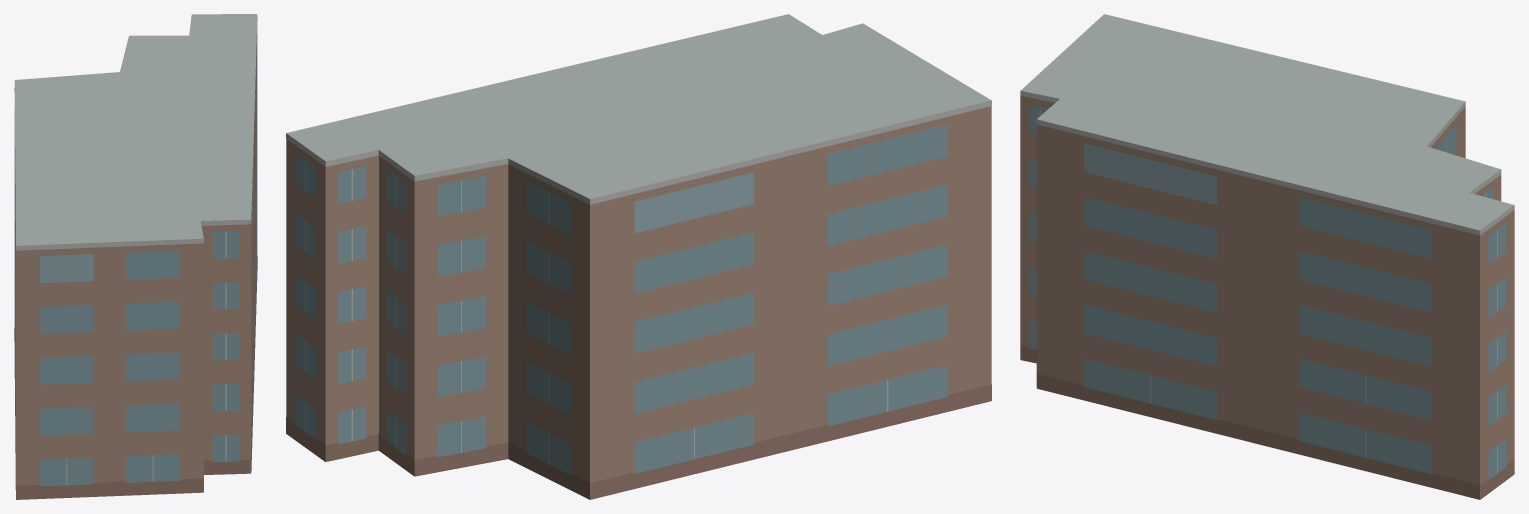
File: survey-upis-33002012.glb
3 views of the same model, side by side, from view 1: azimuth 30°, elevation 25°; view 2: azimuth 150°, elevation 25°; view 3: azimuth 270°, elevation 25° (orthographic). The views are drawn at different scales.
Parts seen in each view (by area): view 1: survey-upis-33002012.tmp; view 2: survey-upis-33002012.tmp; view 3: survey-upis-33002012.tmp.
Boxes of the visible parts, bbox=[...] form: survey-upis-33002012.tmp: bbox=[14, 14, 257, 499]; survey-upis-33002012.tmp: bbox=[286, 14, 991, 499]; survey-upis-33002012.tmp: bbox=[1020, 14, 1514, 499].
Bounding box in the file's own units: 22.7 × 13.15 × 21.88.
